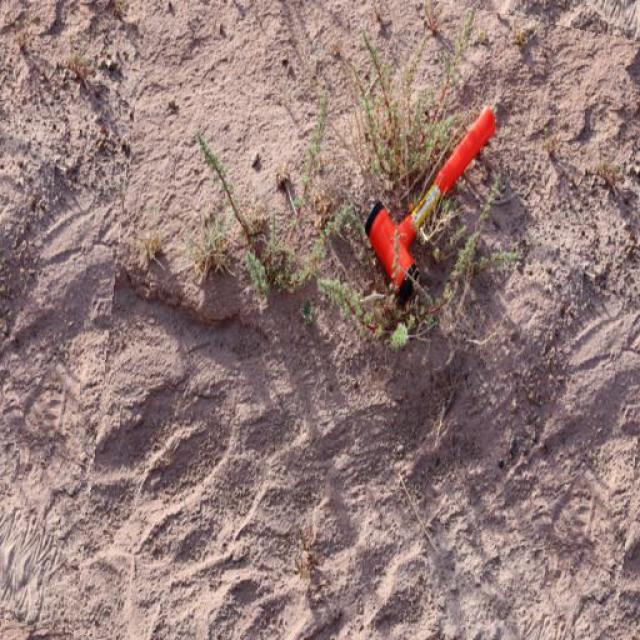mallet: (362, 102, 498, 302)
